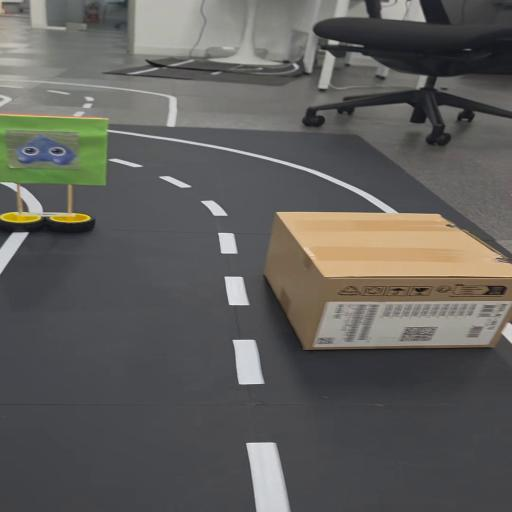Box: (254, 206, 512, 349)
Sign_B: (3, 106, 108, 236)
